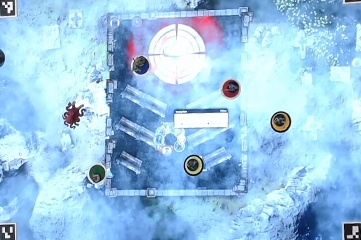blue: (131, 54, 154, 77)
giant_red_octopus: (60, 99, 87, 130)
green: (89, 163, 111, 186)
lime_green_violet: (181, 154, 205, 177)
red: (221, 77, 244, 100)
yellow_night_blue: (269, 111, 292, 134)
